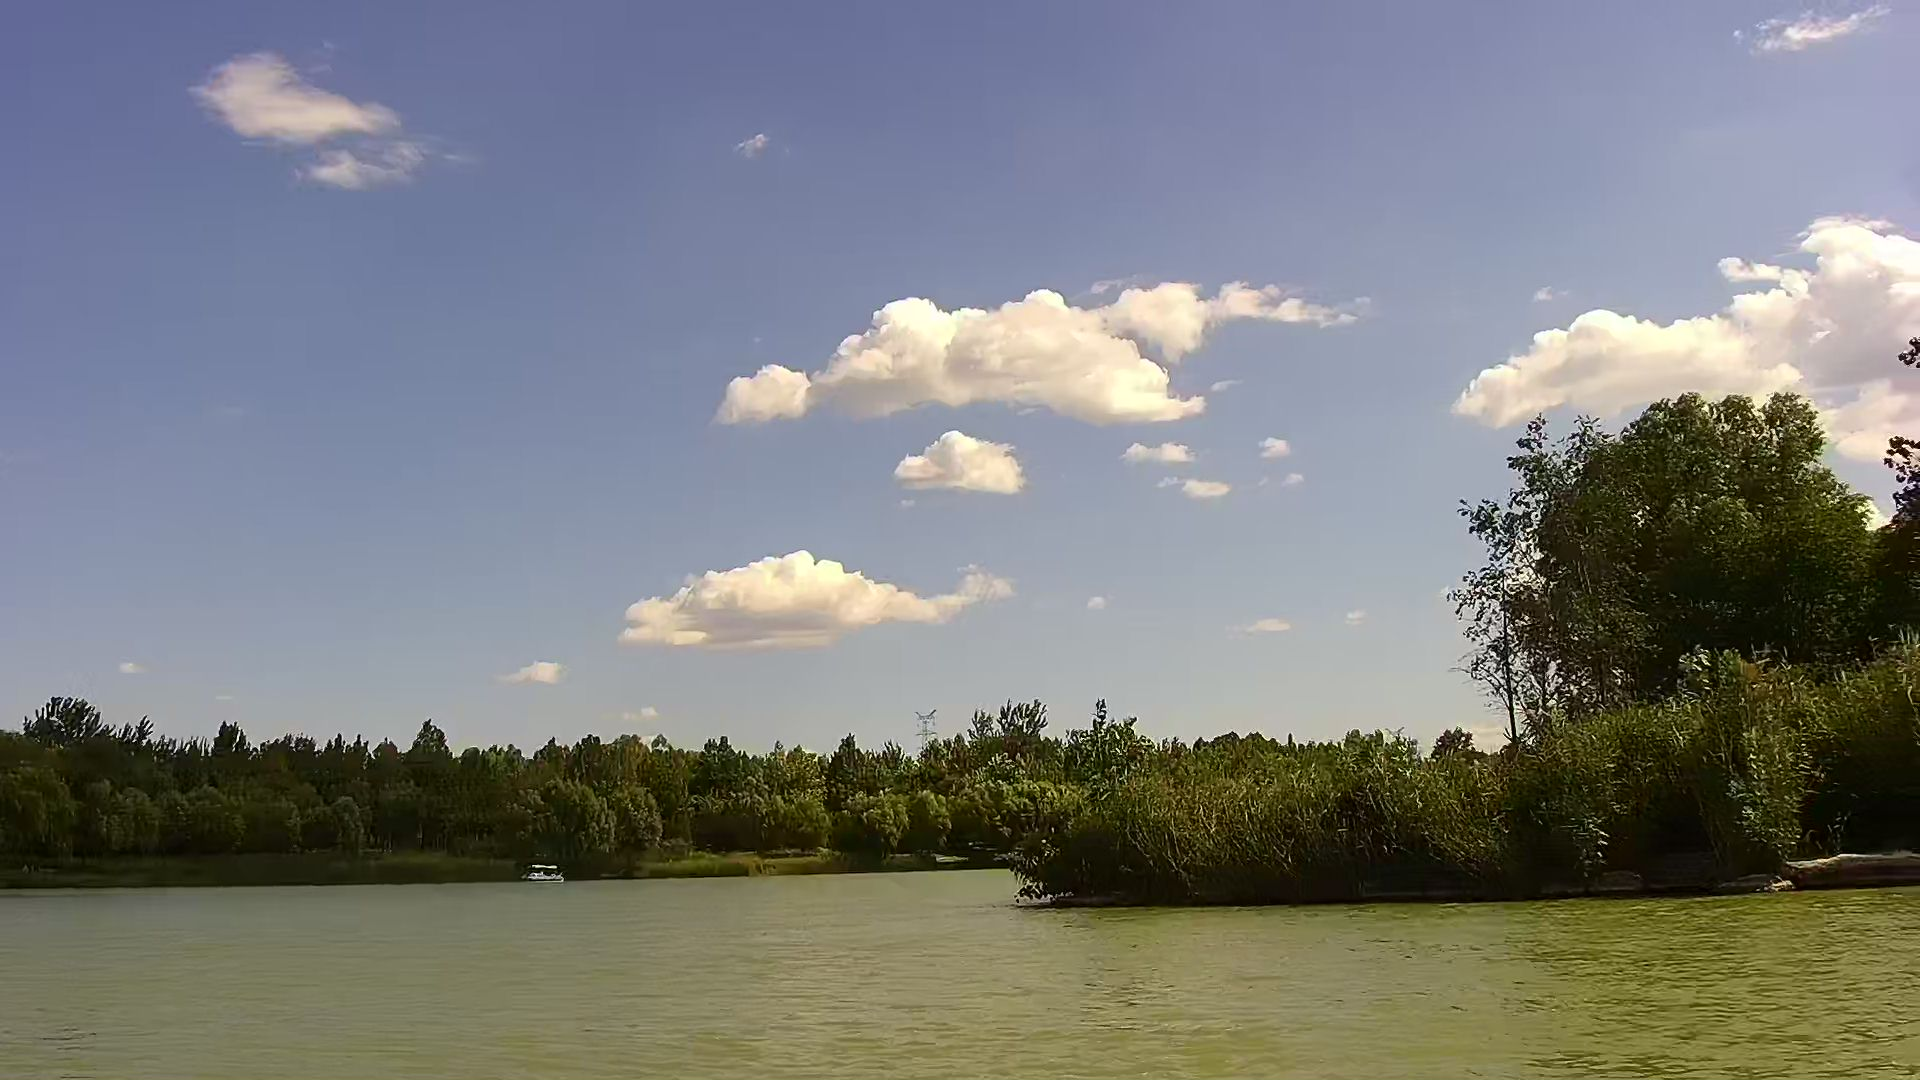boat: (524, 862, 567, 884)
